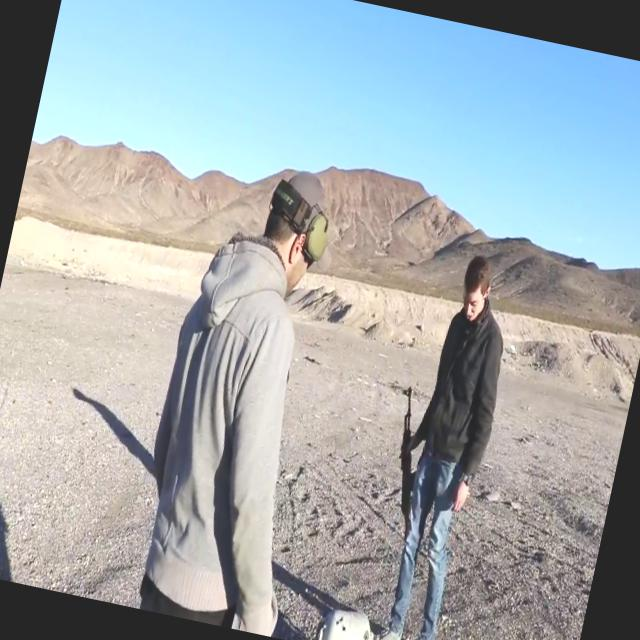long weapon: (369, 372, 446, 538)
